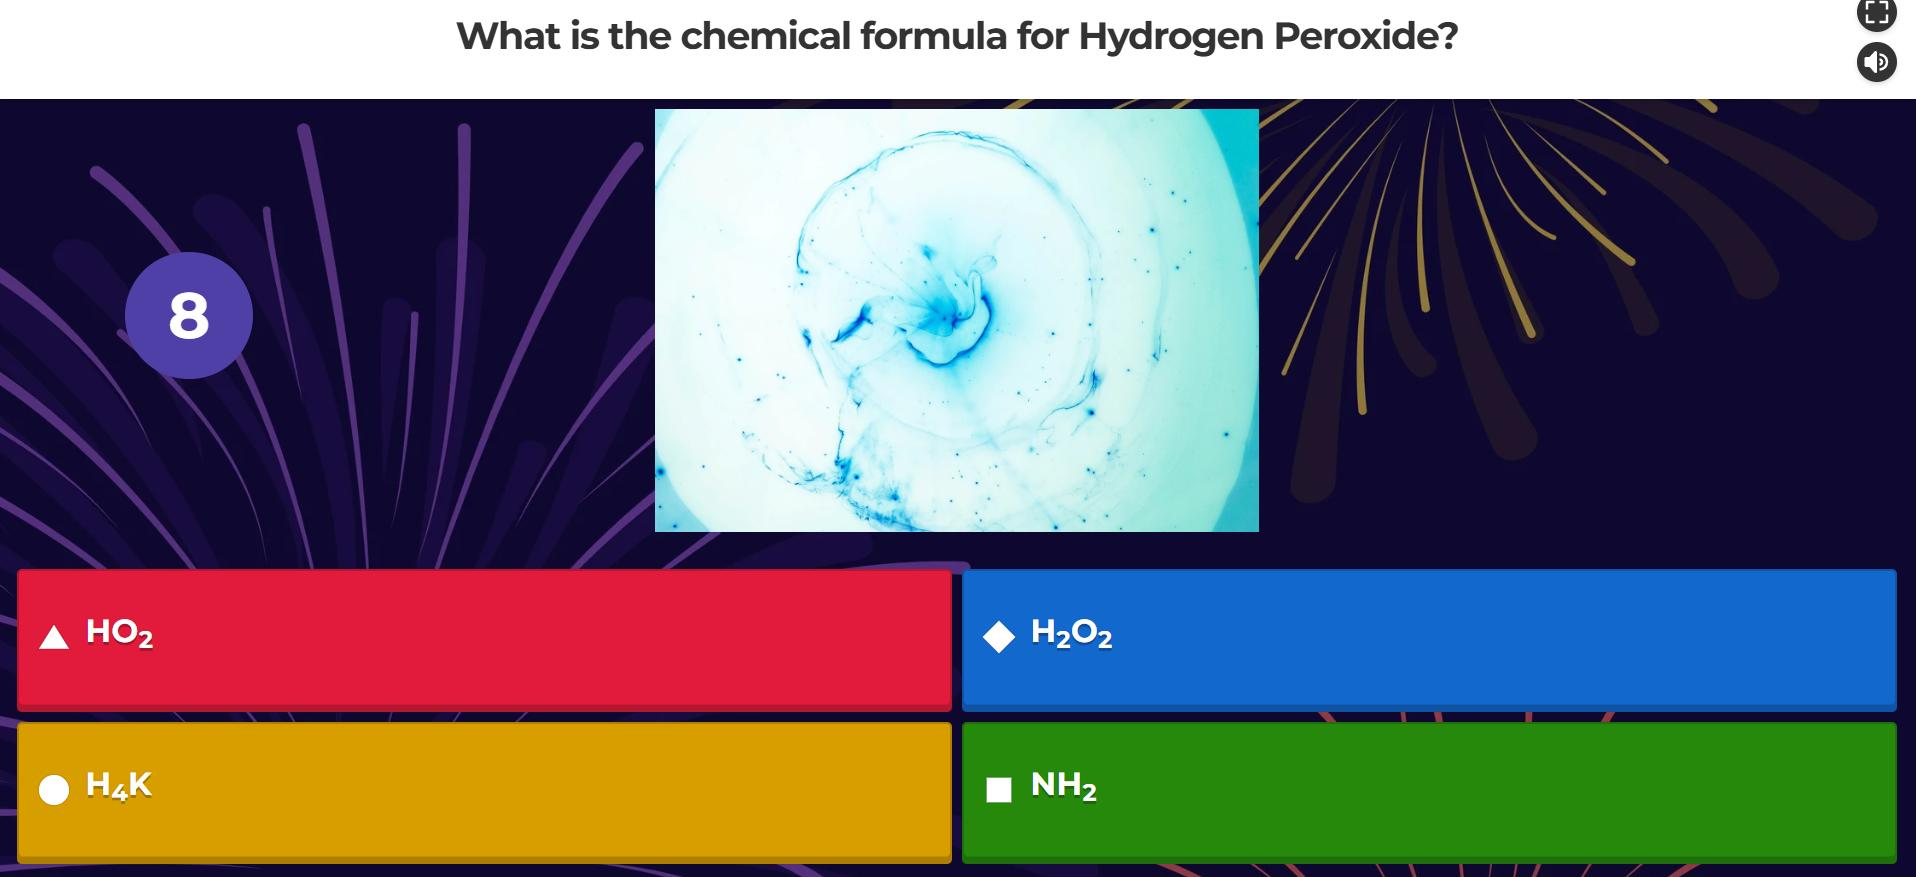answer_blue: (965, 570, 1895, 711)
answer_green: (963, 726, 1895, 856)
answer_red: (21, 568, 945, 712)
answer_yellow: (17, 721, 951, 865)
question_box: (2, 9, 1819, 100)
